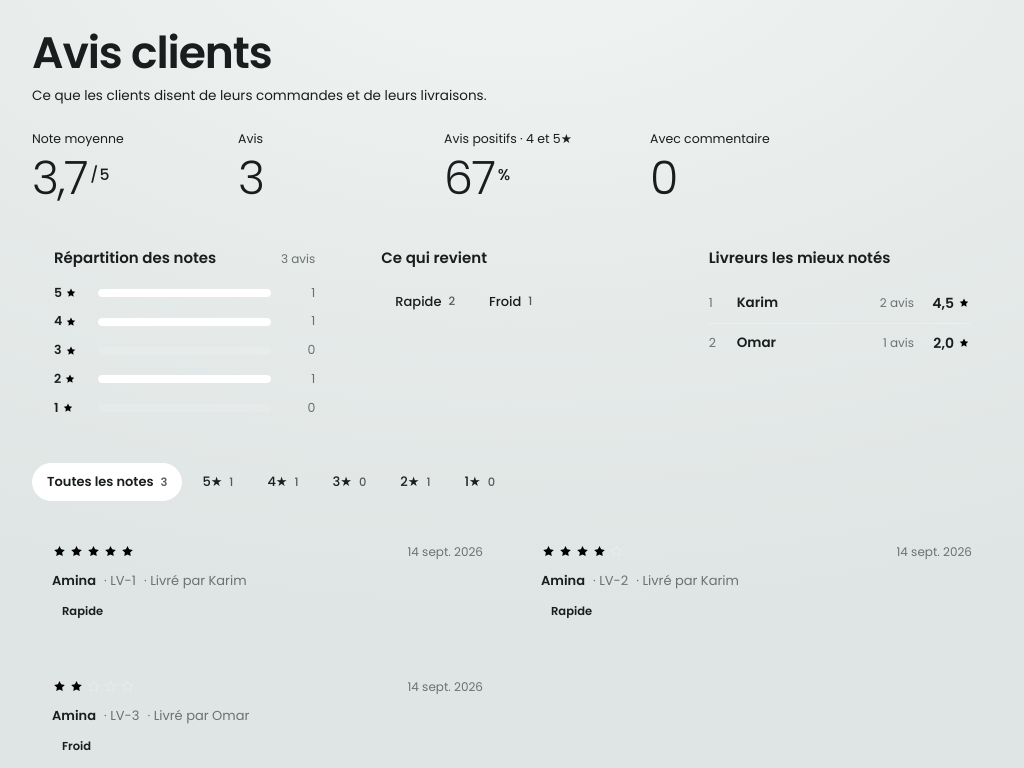
Test: ReviewsScreen › filtre par mot-clé et classe les livreurs
The image size is (1024, 768).
Expected: the number of pictures named "sur 5" is 3, x1=52 y1=544 x2=135 y2=559; x1=541 y1=544 x2=624 y2=559; x1=52 y1=679 x2=135 y2=694
Expected: the heading "Livreurs les mieux notés" is shown, x1=709 y1=247 x2=890 y2=270
Click the button "Froid 1" at (511, 301), box x1=475 y1=284 x2=546 y2=319
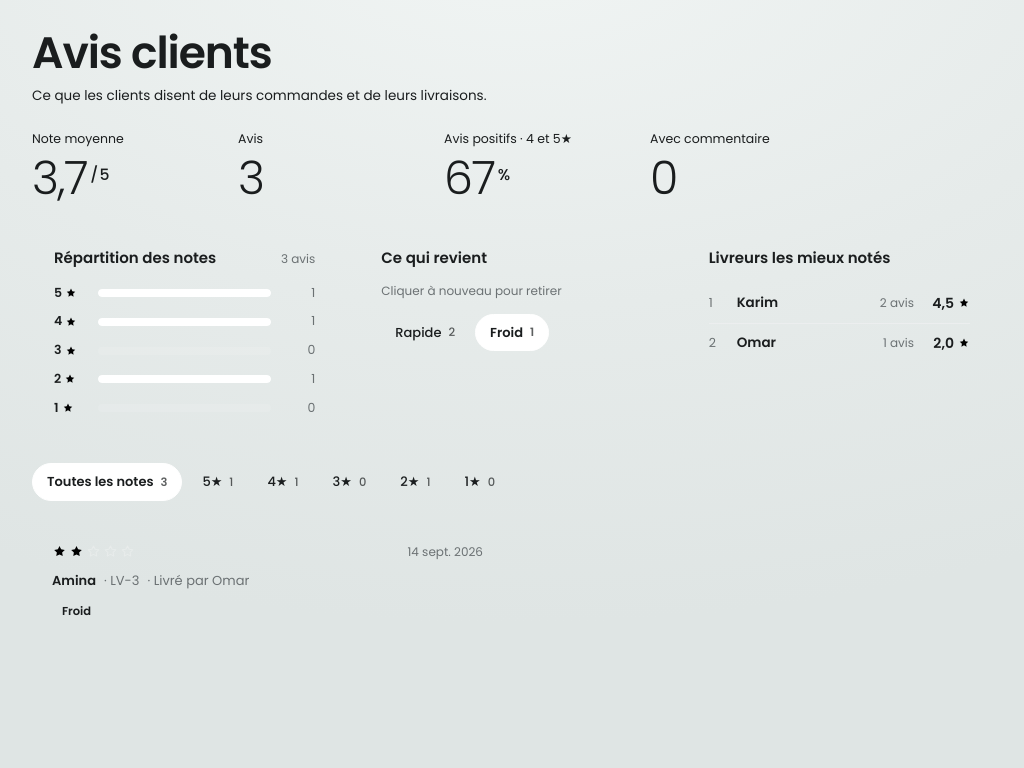
Expected: the number of pictures named "sur 5" is 1, x1=52 y1=544 x2=135 y2=559
